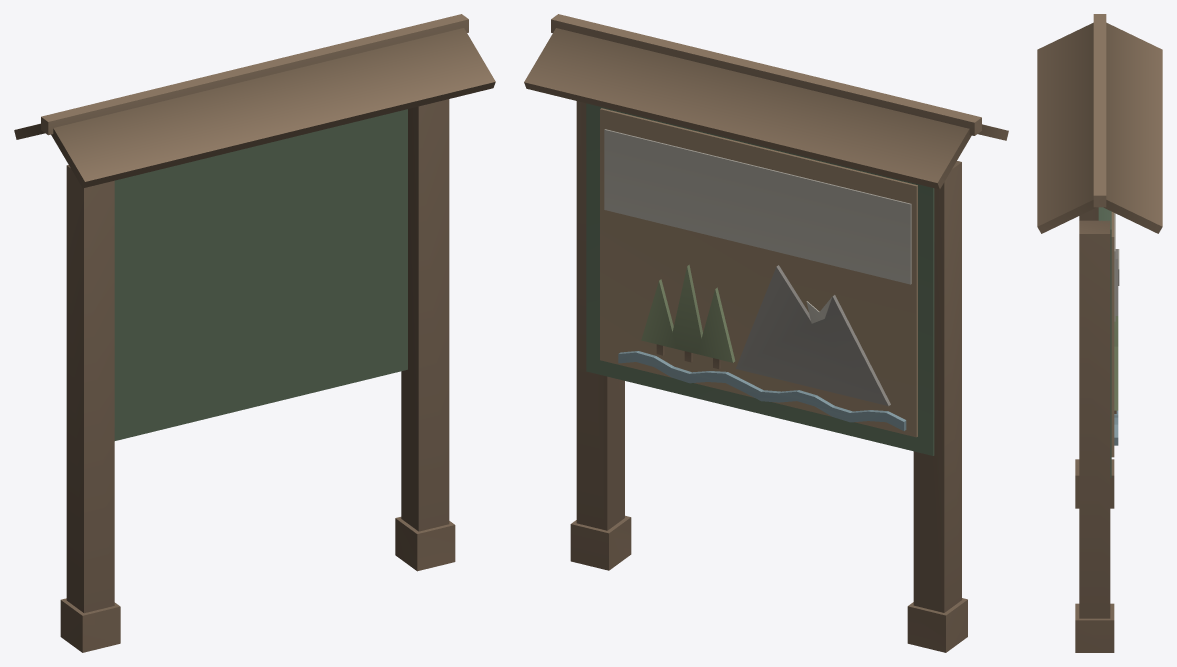
File: sign_reserve_low.glb
The picture shows the model from 3 angles, left to right: view 1: azimuth 30°, elevation 25°; view 2: azimuth 150°, elevation 25°; view 3: azimuth 270°, elevation 25°; orthographic projection. The views are drawn at different scales.
Parts seen in each view (by area): view 1: sign_reserve; view 2: sign_reserve; view 3: sign_reserve.
Boxes of the visible parts, x1,y1,x2,y2 form: sign_reserve: (14,14,495,652); sign_reserve: (524,14,1008,652); sign_reserve: (1037,14,1162,652).
Size of the model in its own units: 1.66 by 1.99 by 0.4848.
